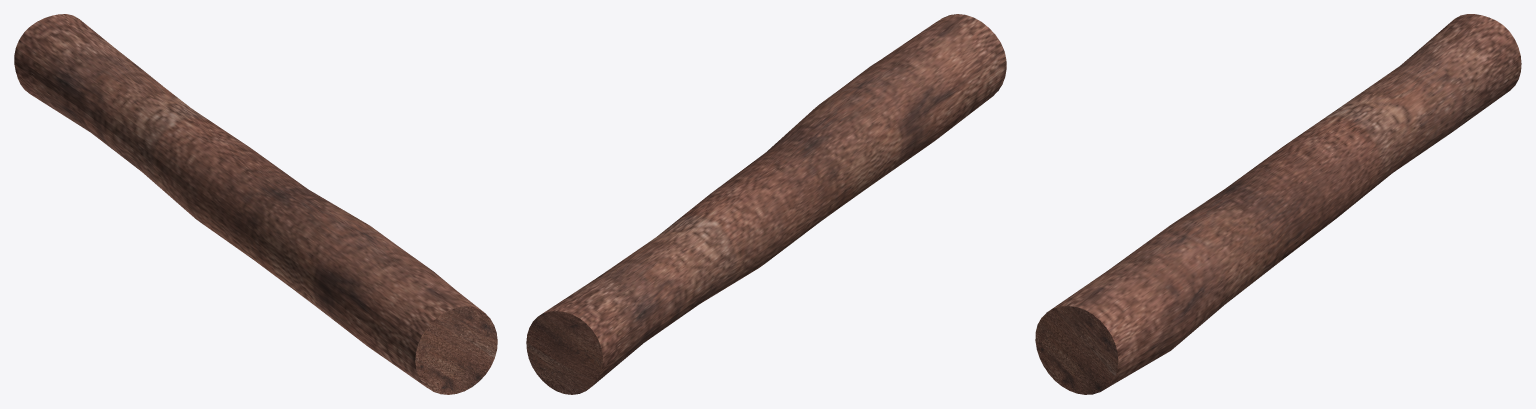
Rendered from branch1.fbx.
3 views of the same model, side by side, from view 1: azimuth 30°, elevation 25°; view 2: azimuth 150°, elevation 25°; view 3: azimuth 330°, elevation 25° (orthographic).
Visible parts, largest first — view 1: Cylinder; view 2: Cylinder; view 3: Cylinder.
Part boxes in pixels (left/top/right/bottom): Cylinder: left=14, top=14, right=497, bottom=394; Cylinder: left=526, top=14, right=1006, bottom=394; Cylinder: left=1035, top=14, right=1521, bottom=394.
Bounding box in the file's own units: 25.69 × 25.07 × 203.
Materials: 1 (1 with a texture image).
